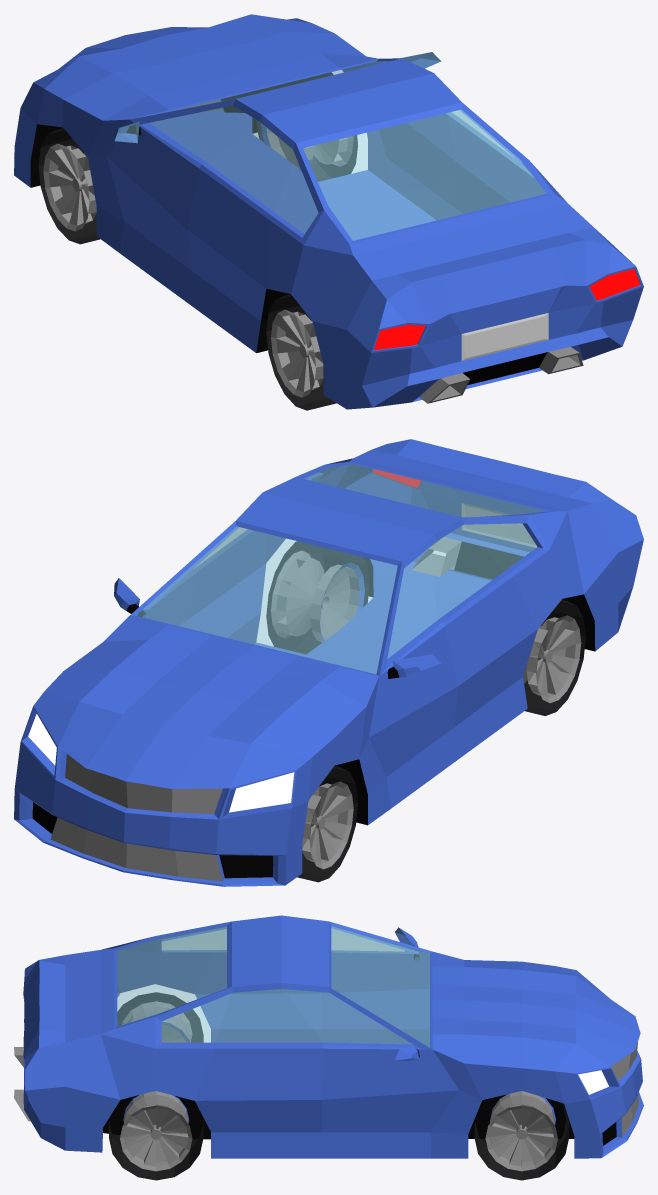
The model's file is car.gltf.
The picture shows the model from 3 angles, top to bottom: view 1: azimuth 30°, elevation 25°; view 2: azimuth 150°, elevation 25°; view 3: azimuth 270°, elevation 25°; orthographic projection. The views are drawn at different scales.
Visible parts, largest first — view 1: Hull, L_Wheel, R_Wheel; view 2: Hull, L_Wheel; view 3: Hull, R_Wheel.
Part boxes in pixels (<box>): Hull: <box>14,14,643,410</box>; L_Wheel: <box>38,128,100,244</box>; R_Wheel: <box>256,72,357,181</box>; Hull: <box>14,439,643,886</box>; L_Wheel: <box>297,766,357,882</box>; Hull: <box>14,915,643,1180</box>; R_Wheel: <box>474,1091,569,1180</box>.
Bounding box in the file's own units: 2.19 × 1.43 × 4.55.
